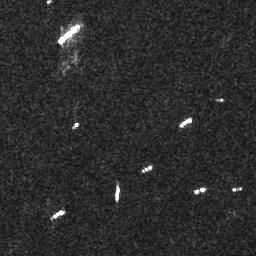ship: (57, 24, 81, 44), (49, 209, 66, 220), (113, 183, 122, 203), (179, 117, 194, 128), (193, 186, 208, 195), (230, 186, 245, 195), (141, 164, 153, 173), (71, 121, 80, 130), (216, 97, 224, 101)
